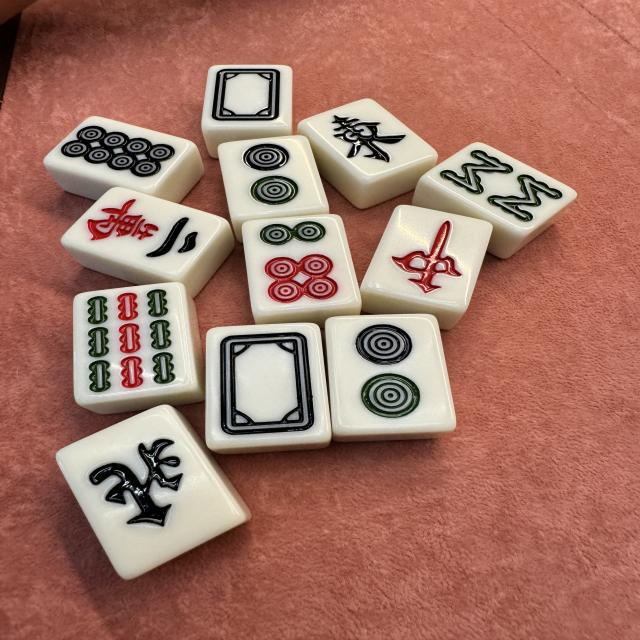hdr: (360, 205, 493, 312)
hdw: (205, 323, 332, 448), (202, 64, 295, 130)
hwe: (299, 98, 436, 181)
hwn: (55, 403, 247, 579)
sb8: (422, 141, 578, 234)
sb9: (72, 282, 197, 405)
sc2: (60, 187, 227, 279)
sd2: (325, 314, 456, 434), (218, 135, 328, 220)
sd6: (242, 214, 362, 316)
sd8: (44, 115, 192, 193)
